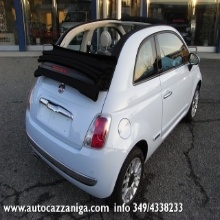no damage: (24, 17, 204, 207)
